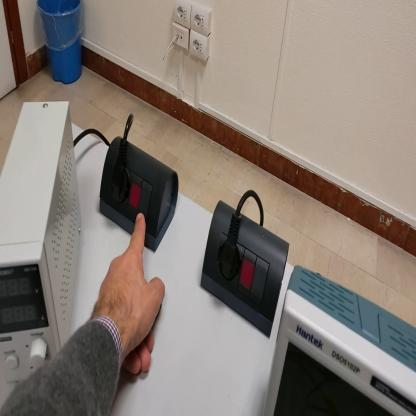hand: (94, 211, 166, 372)
oscilloscope: (264, 264, 416, 416)
power supply: (2, 97, 81, 394)
socket: (203, 200, 291, 340), (99, 138, 180, 255)
